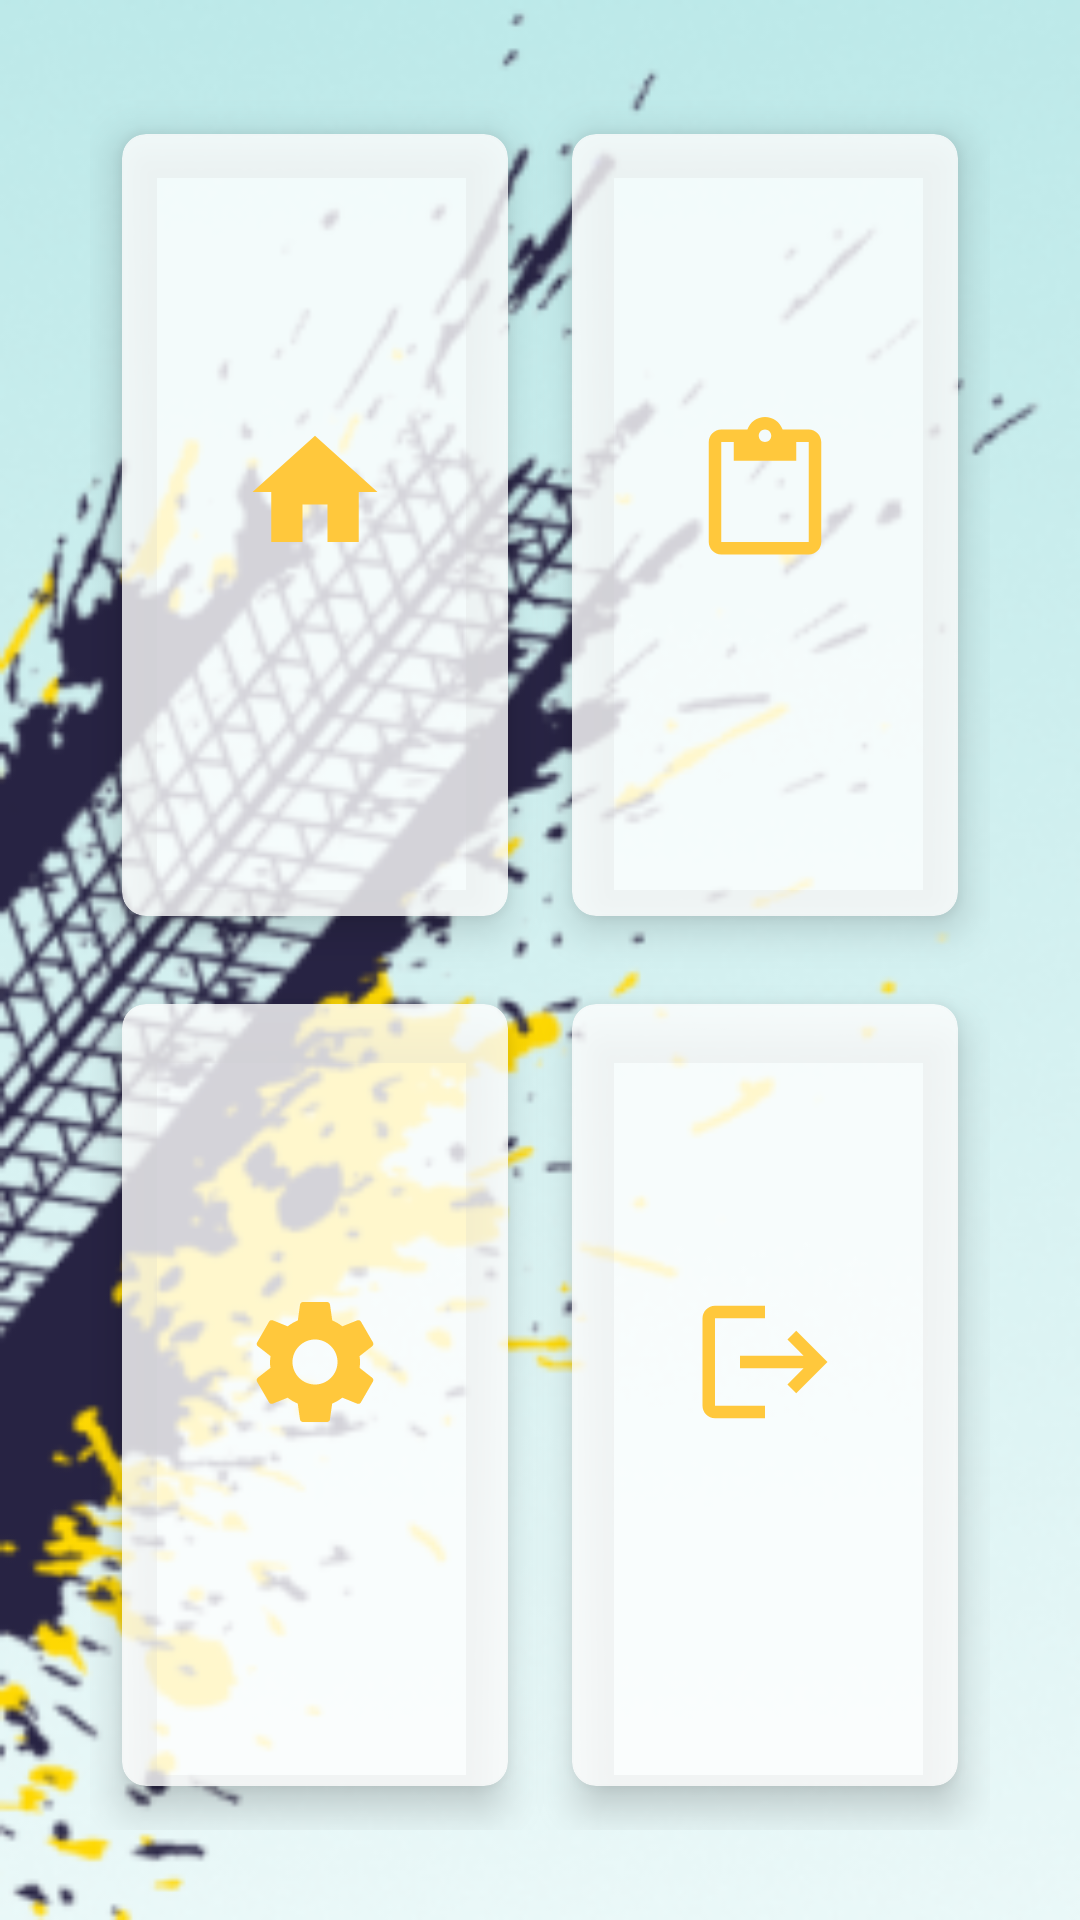

Icons on this 1080px×1920px Android screen, each with its box as (x1, y1, x2, y2):
guidance: (708, 417, 827, 567)
home: (240, 417, 390, 567)
